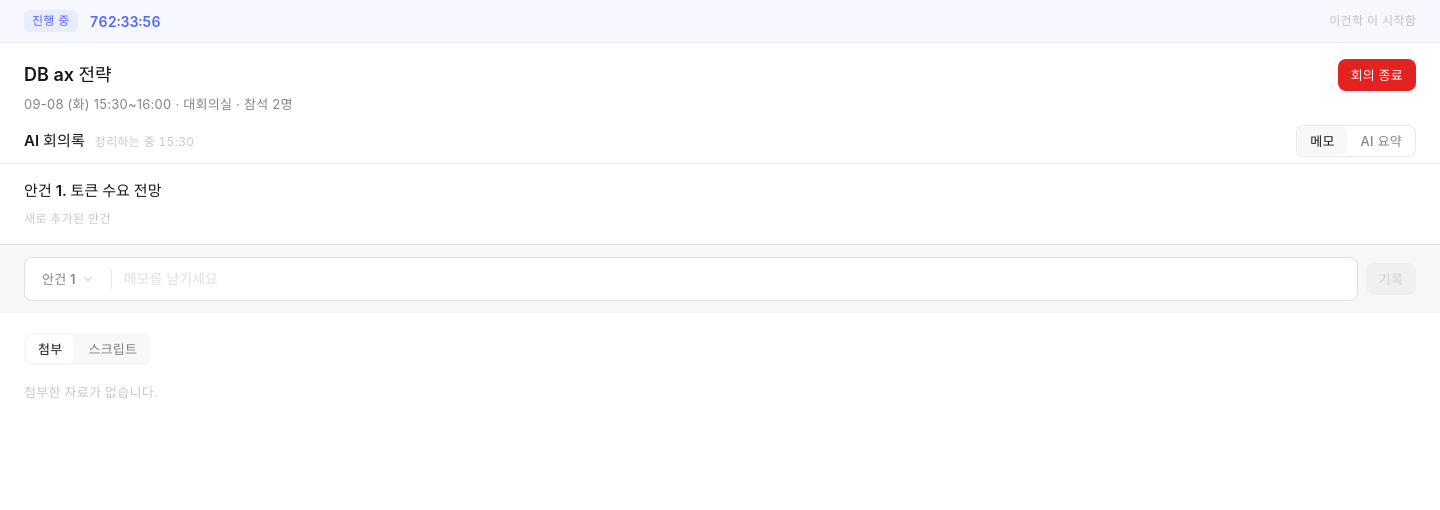
Test: SCR-106 「진행 중」 — 회의 스트림 › 중간에 들어와도 이미 적재된 원문부터 보인다 — 겹치는 줄은 한 번만 선다
The width and height of the screenshot is (1440, 510).
Check: the heading "DB ax 전략" is shown, box [24, 62, 112, 88]
Click the tab "스크립트": (113, 348) [76, 334, 149, 362]
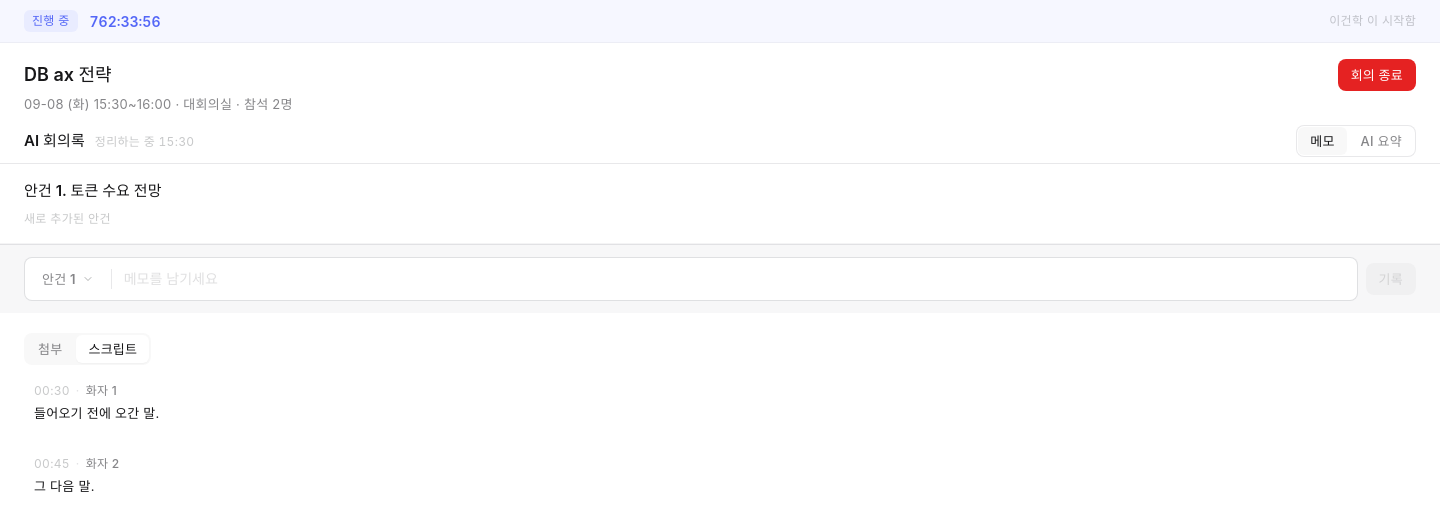
Check: the text "들어오기 전에 오간 말." is shown, box [34, 404, 160, 420]
Check: the text "그 다음 말." is shown, box [34, 478, 95, 494]
